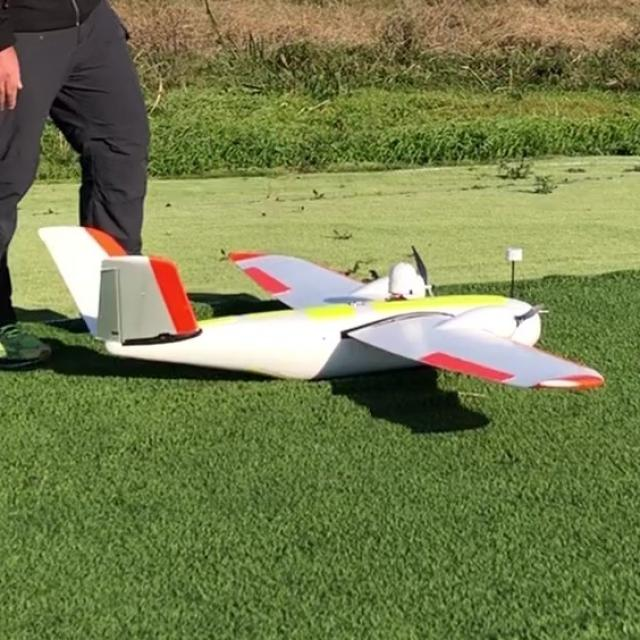iha: (34, 218, 606, 422)
